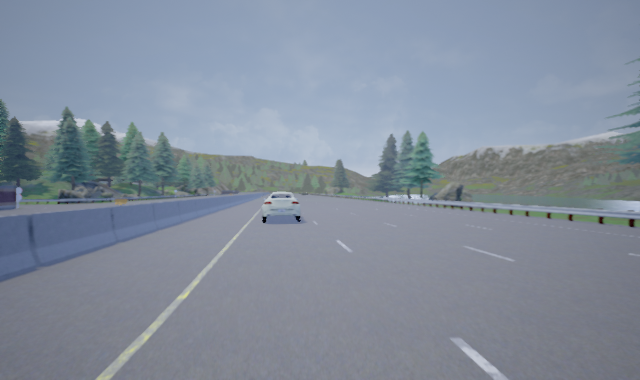vehicle: (260, 191, 302, 223)
